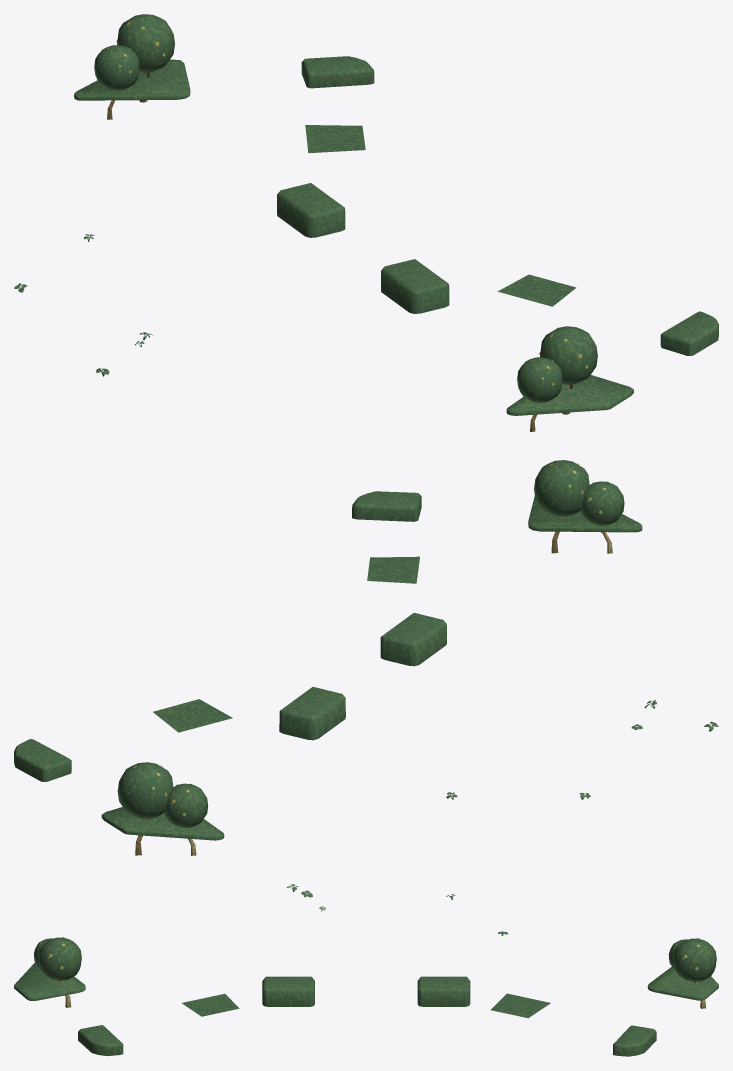
The model's file is pref_sm_beach_bk_pointmol_centerplant_R_lv1.fbx.
3 views of the same model, one above another, from view 1: azimuth 30°, elevation 25°; view 2: azimuth 150°, elevation 25°; view 3: azimuth 270°, elevation 25° (orthographic). The views are drawn at different scales.
Parts seen in each view (by area): view 1: pref_sm_beach_bk_pointmol_centerplant_R_lv1; view 2: pref_sm_beach_bk_pointmol_centerplant_R_lv1; view 3: pref_sm_beach_bk_pointmol_centerplant_R_lv1.
Boxes of the visible parts, x1,y1,x2,y2 form: pref_sm_beach_bk_pointmol_centerplant_R_lv1: (14, 14, 718, 431); pref_sm_beach_bk_pointmol_centerplant_R_lv1: (14, 460, 718, 855); pref_sm_beach_bk_pointmol_centerplant_R_lv1: (14, 884, 718, 1056).
Bounding box in the file's own units: 30.91 × 5.28 × 50.85.
